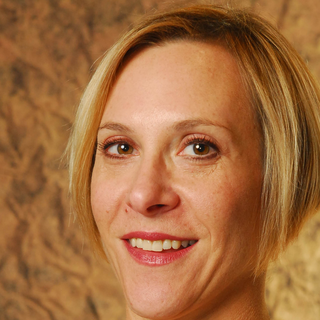eye: (168, 131, 232, 172), (96, 130, 144, 165)
